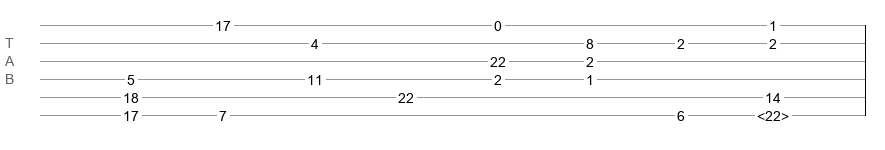0: (494, 18, 502, 28)
1: (586, 72, 594, 82), (769, 18, 777, 28)
11: (307, 72, 323, 82)
14: (765, 90, 781, 100)
17: (123, 108, 139, 118), (215, 18, 231, 28)
18: (123, 90, 139, 100)
2: (494, 72, 502, 82), (586, 54, 594, 64), (677, 36, 685, 46), (769, 36, 777, 46)
22: (398, 90, 414, 100), (490, 54, 506, 64)
4: (311, 36, 319, 46)
5: (127, 72, 135, 82)
6: (677, 108, 685, 118)
7: (219, 108, 227, 118)
8: (586, 36, 594, 46)
harmonic: (757, 108, 789, 118)
